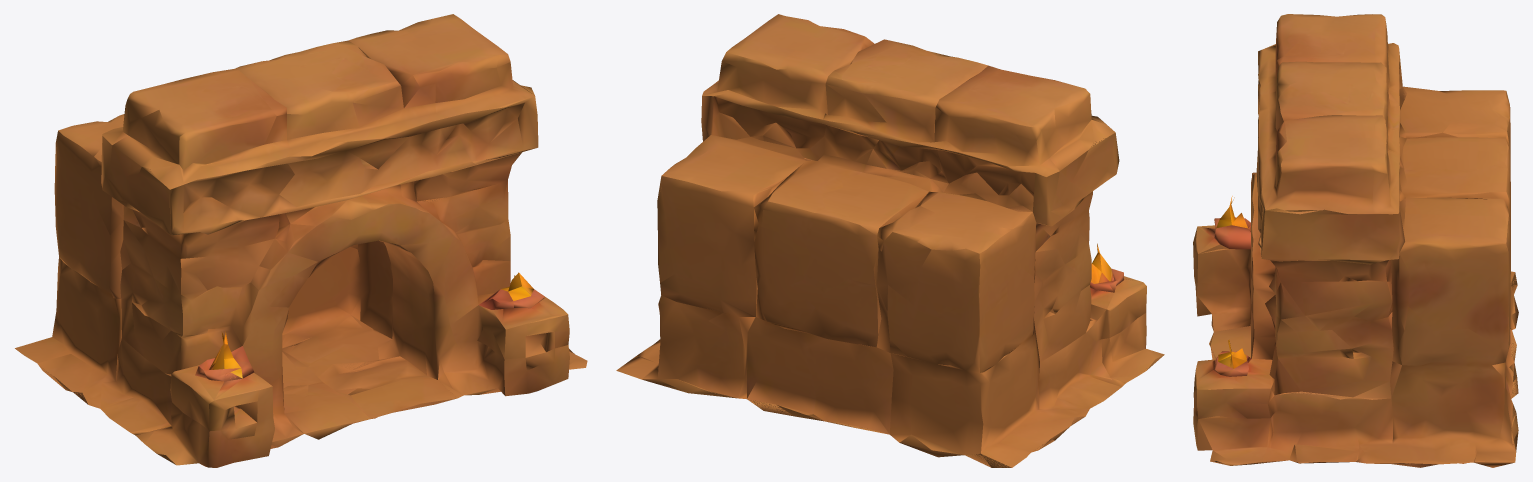
File: desierto_porton.glb
3 views of the same model, side by side, from view 1: azimuth 30°, elevation 25°; view 2: azimuth 150°, elevation 25°; view 3: azimuth 270°, elevation 25° (orthographic). The views are drawn at different scales.
Visible parts, largest first — view 1: tripo_node_bc664a1d-35d2-4bb9-be18-34cf75f7ee3c; view 2: tripo_node_bc664a1d-35d2-4bb9-be18-34cf75f7ee3c; view 3: tripo_node_bc664a1d-35d2-4bb9-be18-34cf75f7ee3c.
Part boxes in pixels (x1=…): tripo_node_bc664a1d-35d2-4bb9-be18-34cf75f7ee3c: x1=15, y1=14, x2=587, y2=467; tripo_node_bc664a1d-35d2-4bb9-be18-34cf75f7ee3c: x1=616, y1=14, x2=1164, y2=467; tripo_node_bc664a1d-35d2-4bb9-be18-34cf75f7ee3c: x1=1193, y1=14, x2=1518, y2=467.
Size of the model in its own units: 0.9964 by 0.6932 by 0.7127.
Materials: 1 (1 with a texture image).
